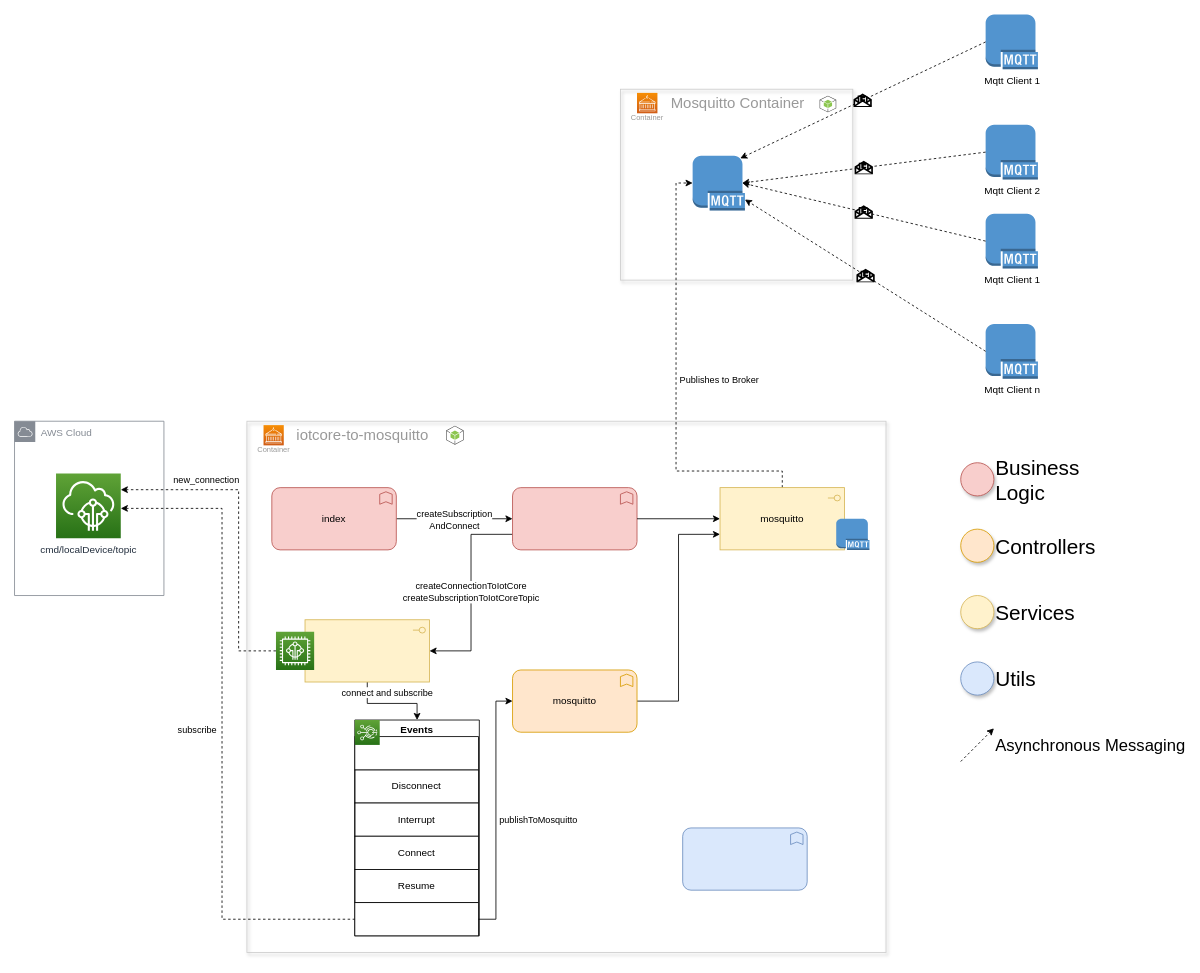
Some shapes in this 1200 by 973 pixel diagram are drawn without their labels. The centre of each missing label's shape, as x and y in pixels:
AWS Device SDK v2: point (294, 650)
Error: point (416, 753)
iotv2: point (367, 650)
listenToTopic: point (574, 518)
Mosquitto 2.0 MQTT Server: point (718, 182)
Mqtt Client: point (852, 534)
Subscribe: cmd/localDevice/topic: point (416, 919)
winstonLogger: point (744, 858)
